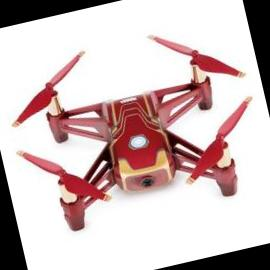drone: (0, 19, 270, 242)
